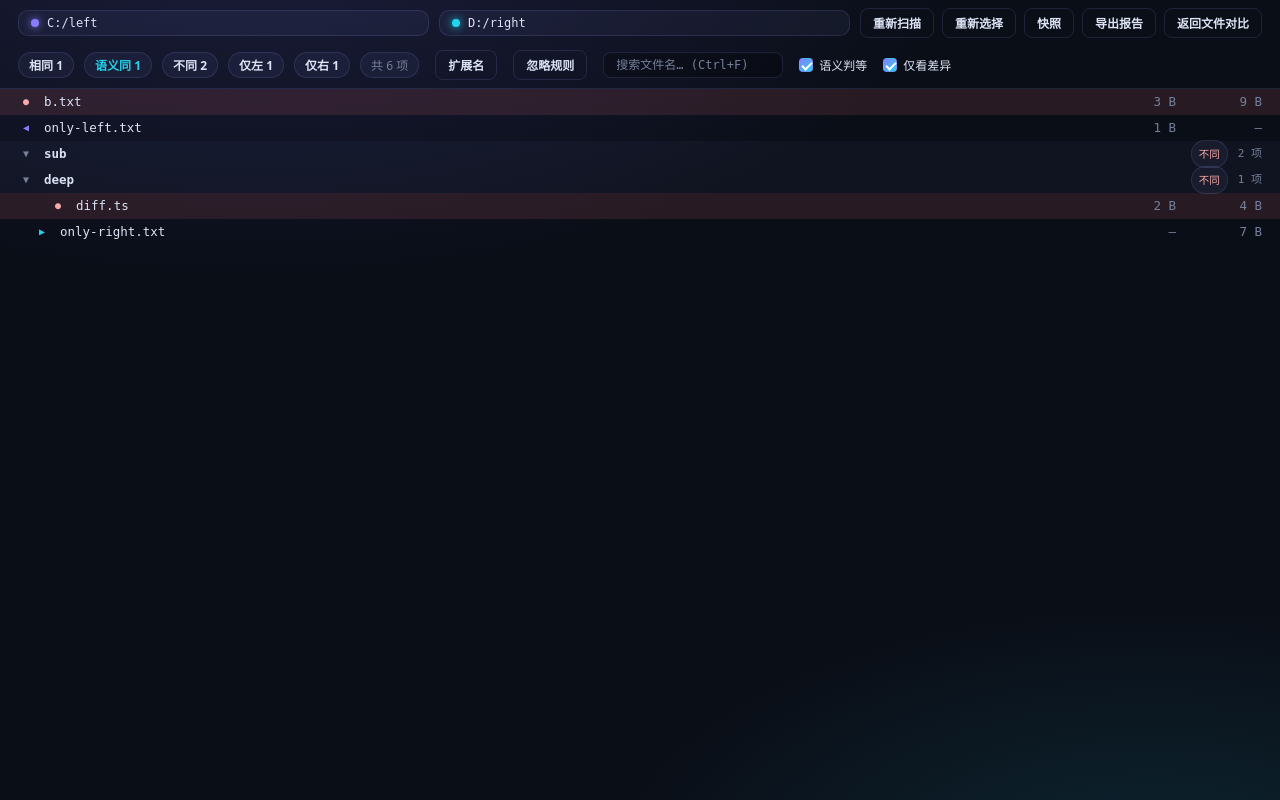
Scenario: FolderView - 树形渲染 › 渲染两侧目录路径与操作按钮
The image size is (1280, 800).
Expected: the text "C:/left" is shown, [47,16,98,30]
Expected: the text "D:/right" is shown, [468,16,526,30]
Click the button "快照" at coordinates (1049, 23), box [1024,8,1074,38]
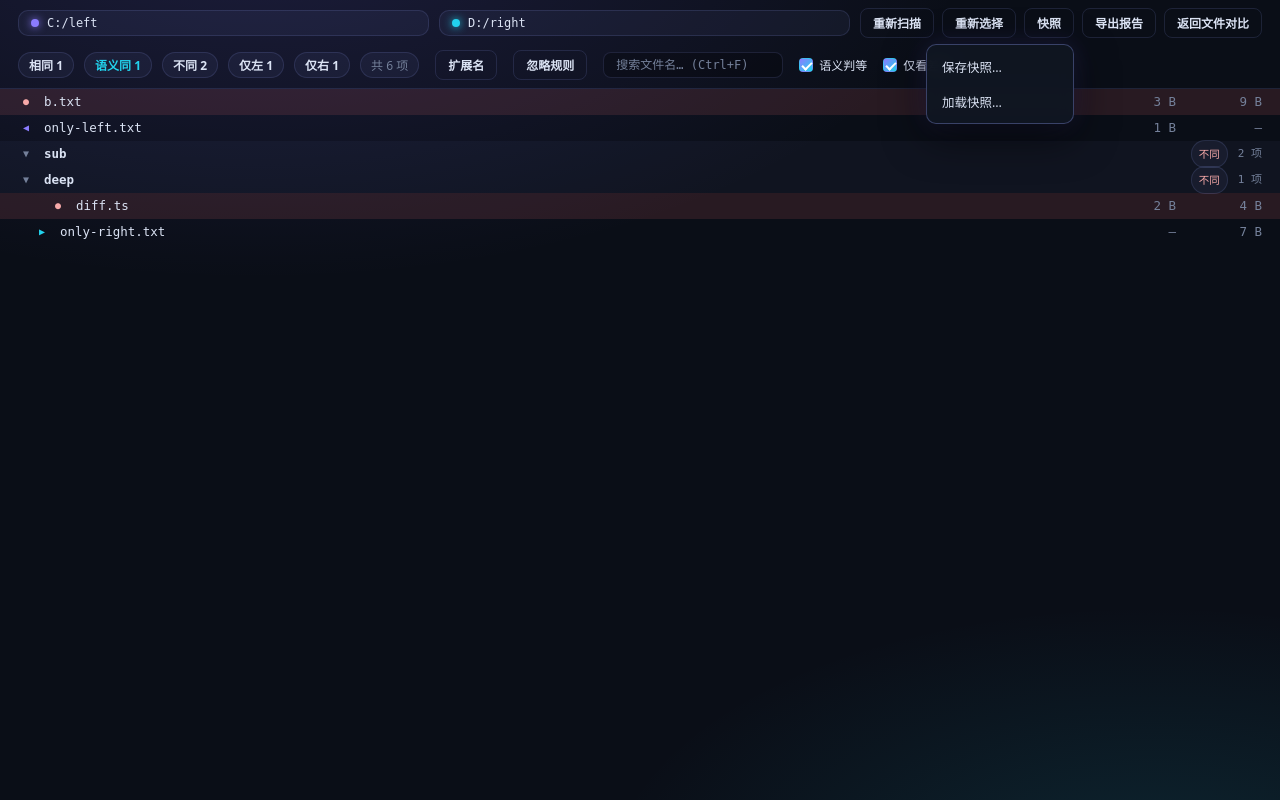
Result: the button "保存快照…" is shown at [932,50,1068,83]
Result: the button "加载快照…" is shown at [932,85,1068,118]
